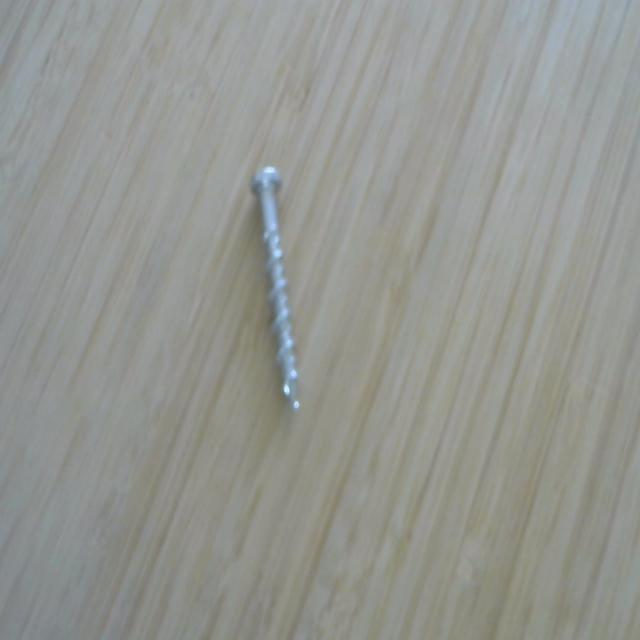Medium screw: (243, 148, 313, 416)
